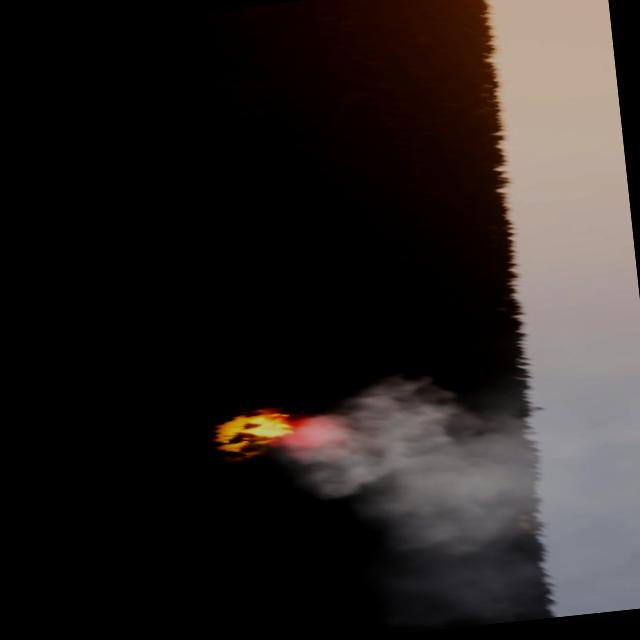fire: (236, 408, 300, 456)
smoke: (267, 358, 570, 640)
